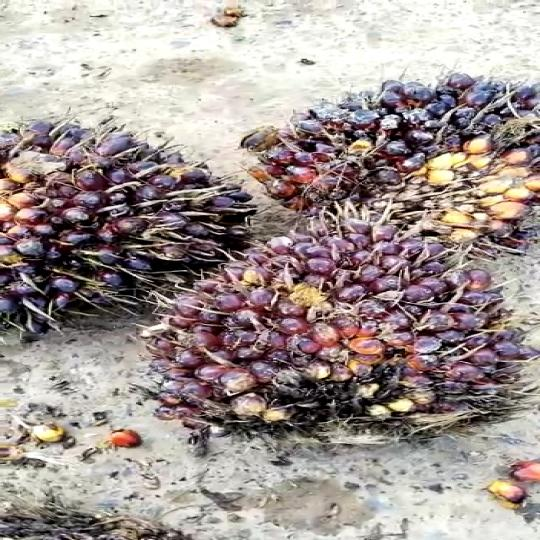kurang masak: (109, 200, 540, 444), (0, 112, 244, 324), (234, 83, 540, 230)
